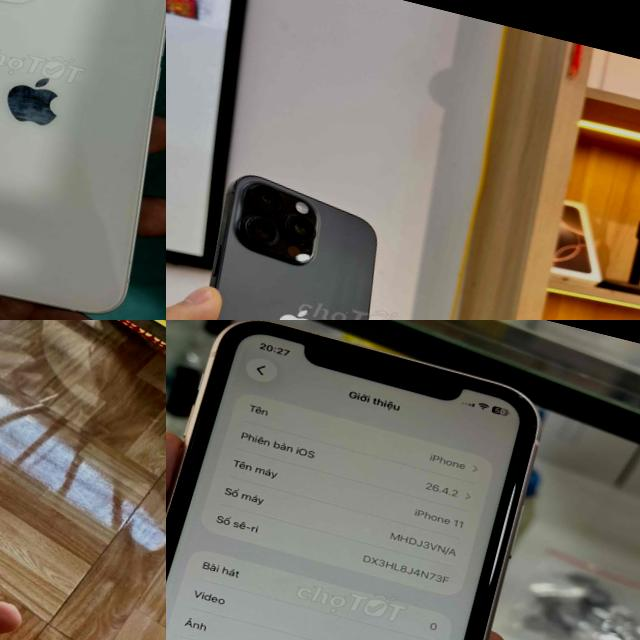scratch: (210, 176, 375, 320)
